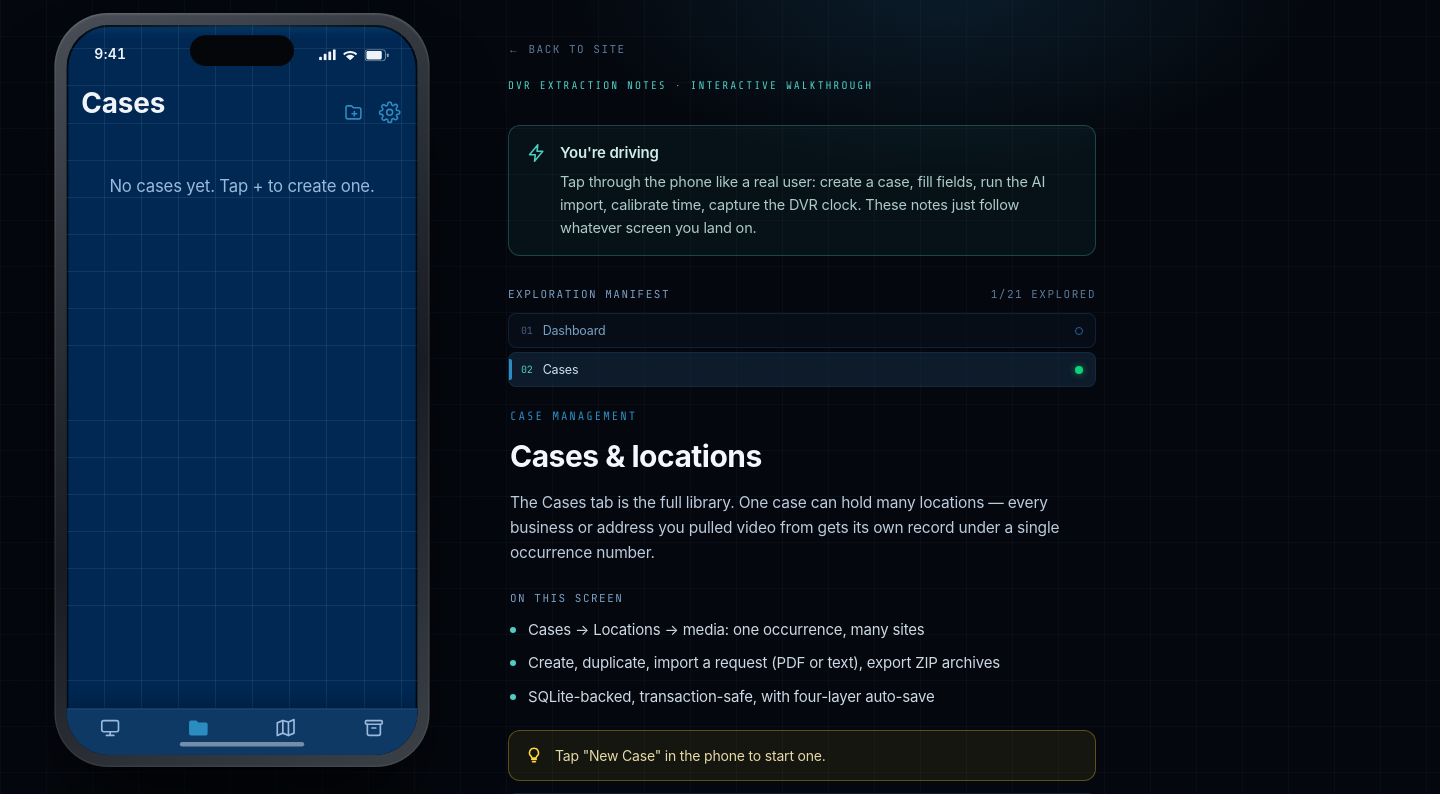
Test: refresh survival (v7) › promises refresh survival only when the handle says the tab is storing [R-3]
Click the button with test id "header-settings-button" at point(390, 112), box [377, 99, 403, 125]
(page scrolled)
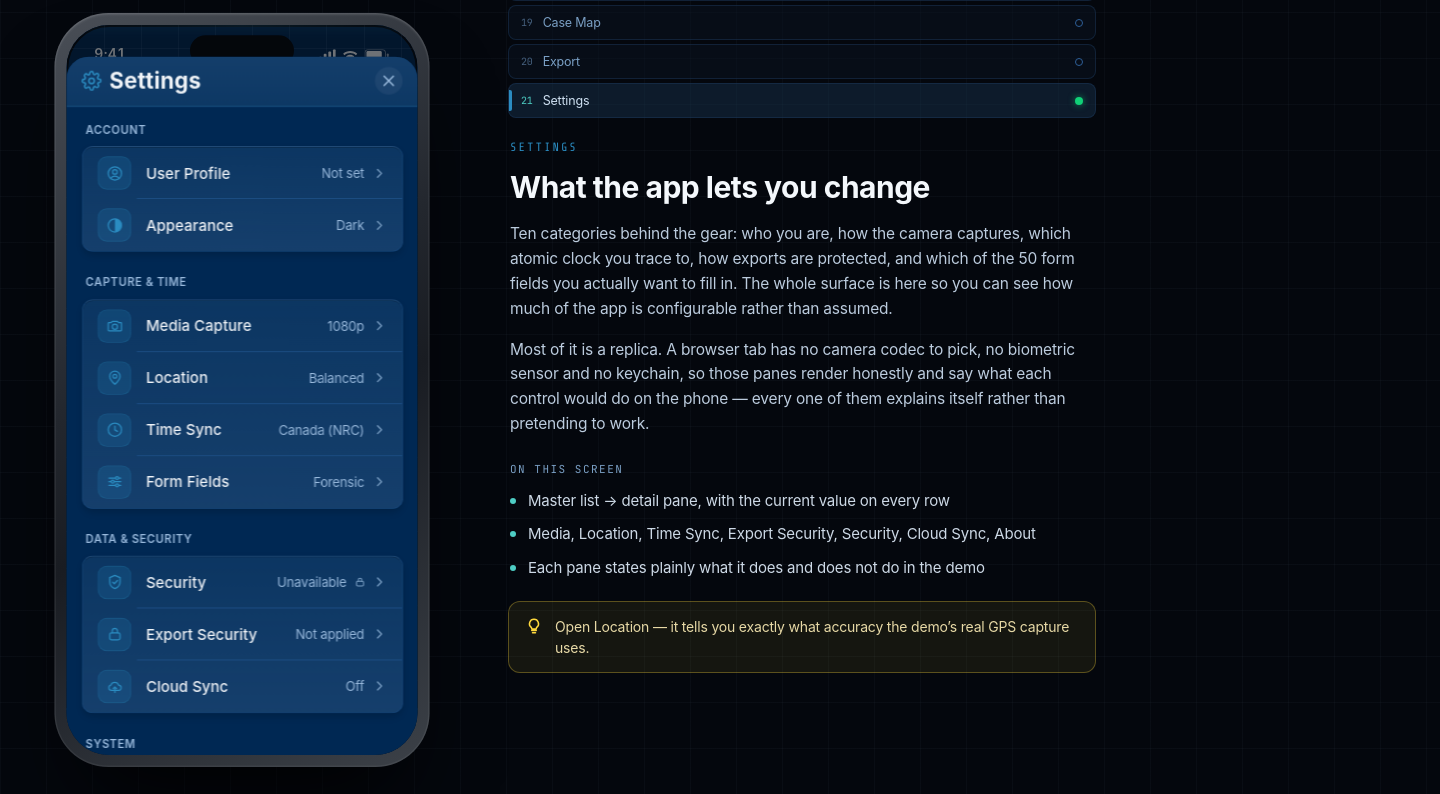
Click the button with test id "settings-row-user-profile" at point(114, 173), box [82, 147, 402, 199]
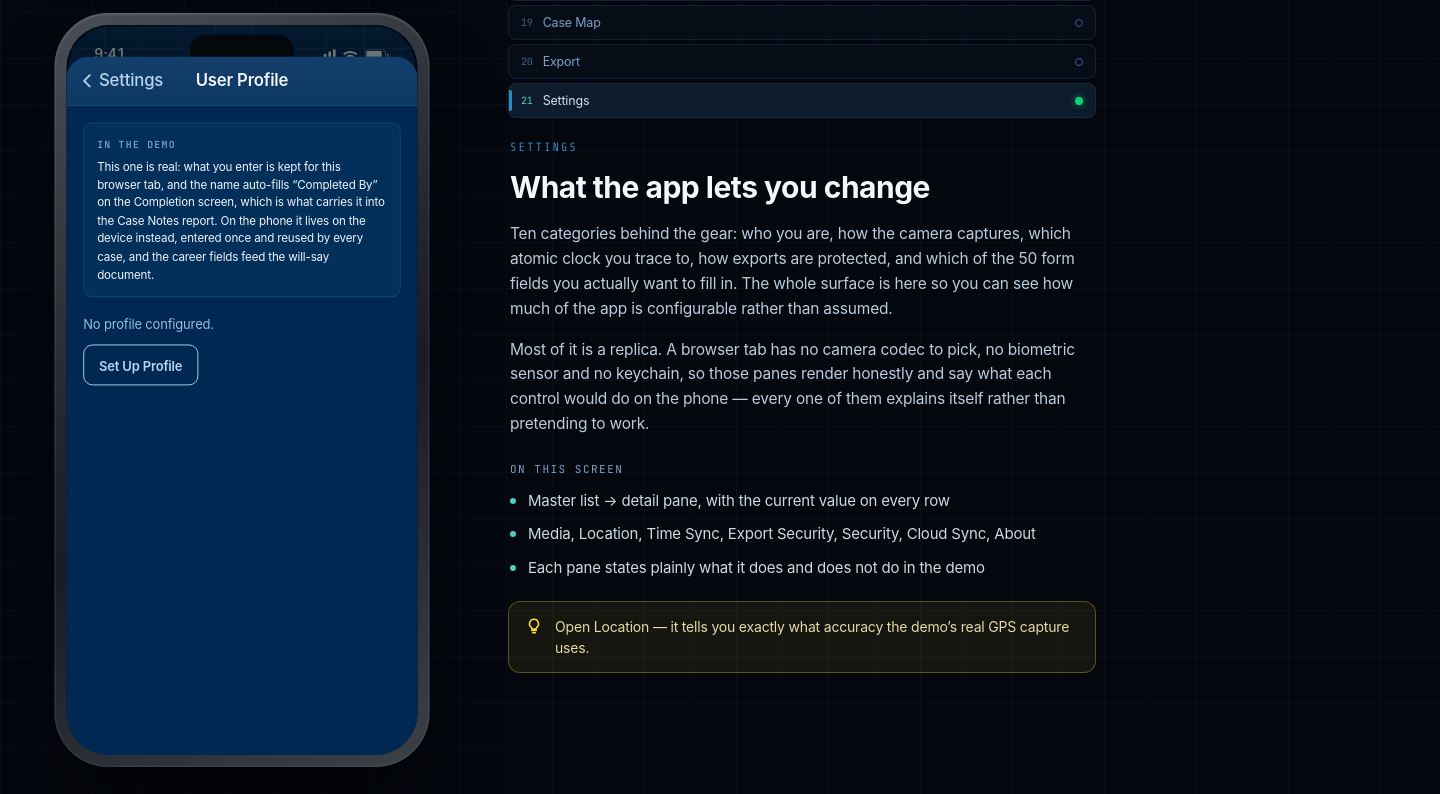
Result: the element with test id "settings-pane-stub-note" shows "kept for this browser tab" at [97, 159, 341, 191]
